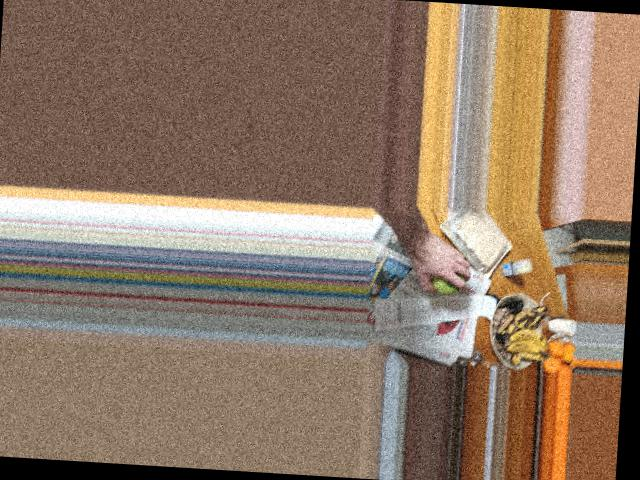apple: (425, 256, 466, 295)
